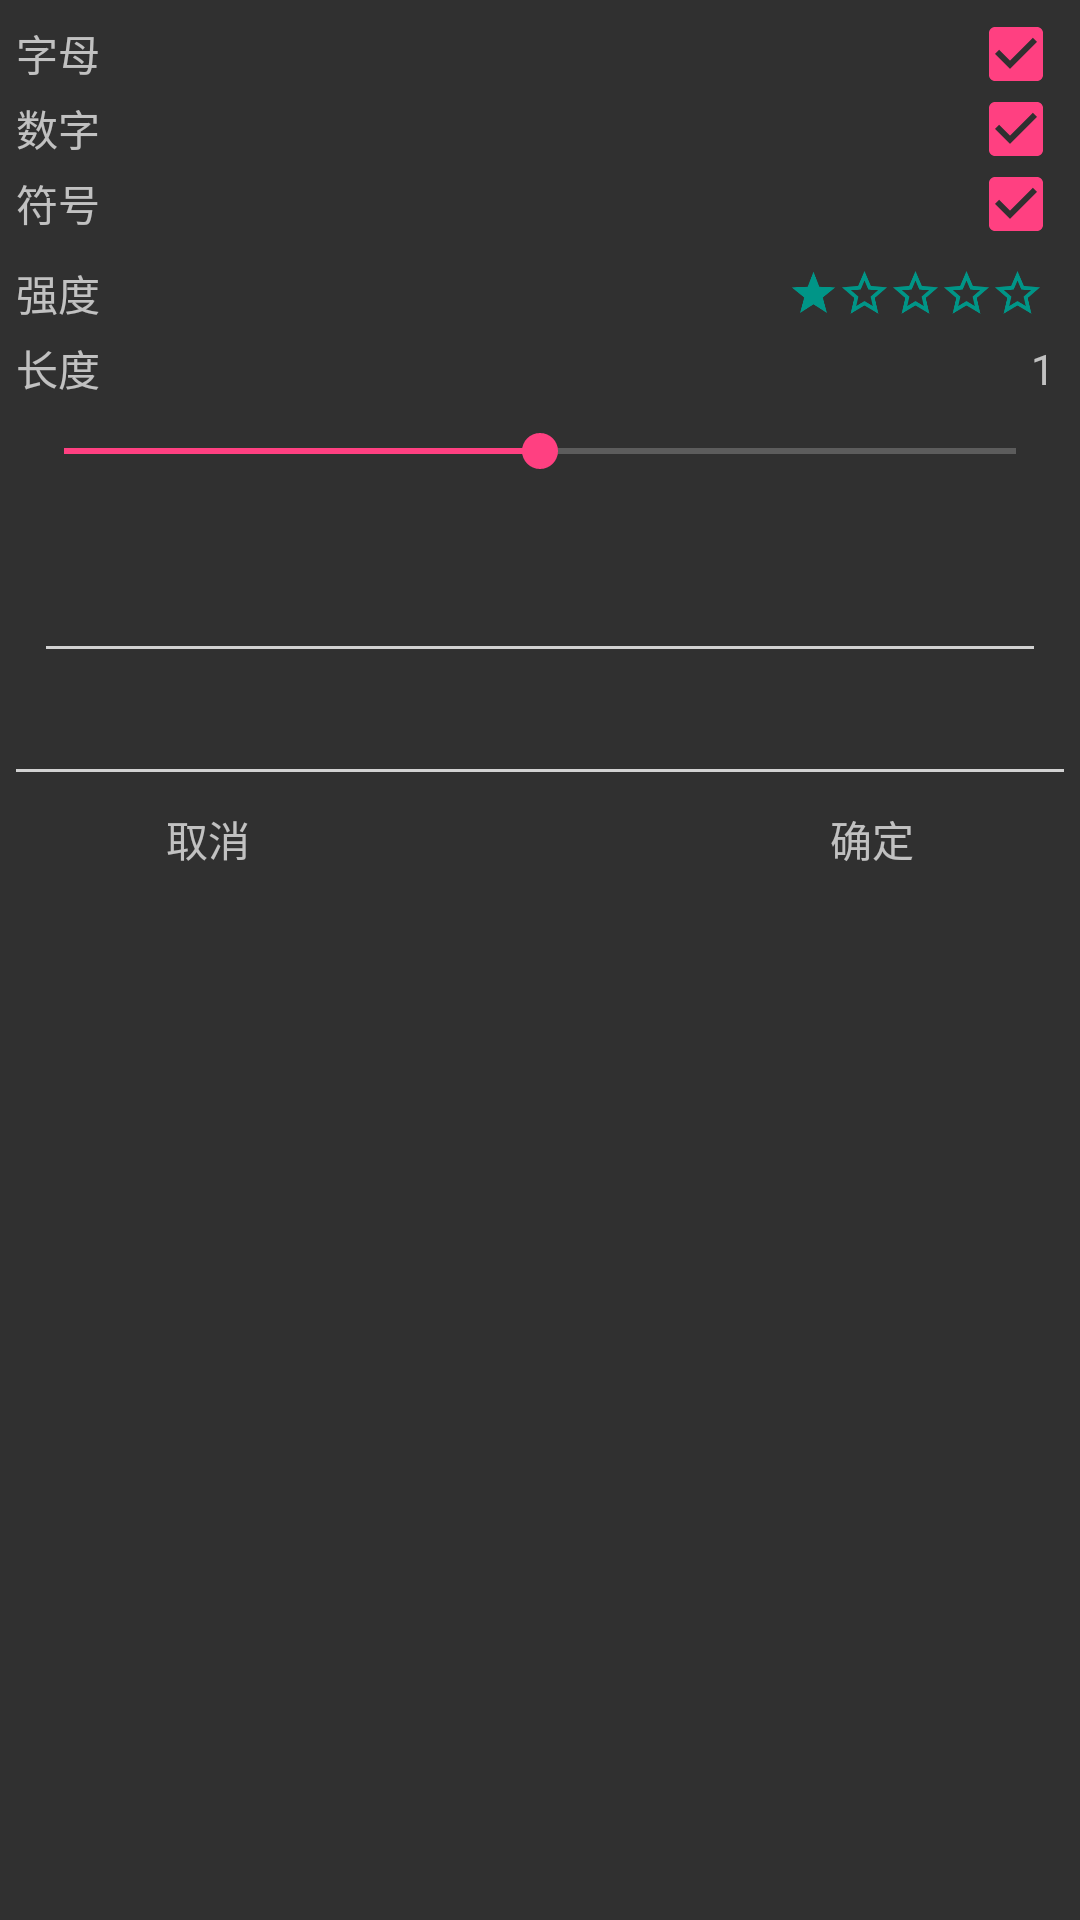

Icon bounding boxes for this 1080px×1920px phone screenshot, format box=[x1, y1, x2, y2]:
star: box=[792, 272, 835, 313]
star empty: box=[842, 271, 887, 314], box=[893, 271, 938, 314], box=[944, 271, 989, 314], box=[995, 271, 1040, 314]
